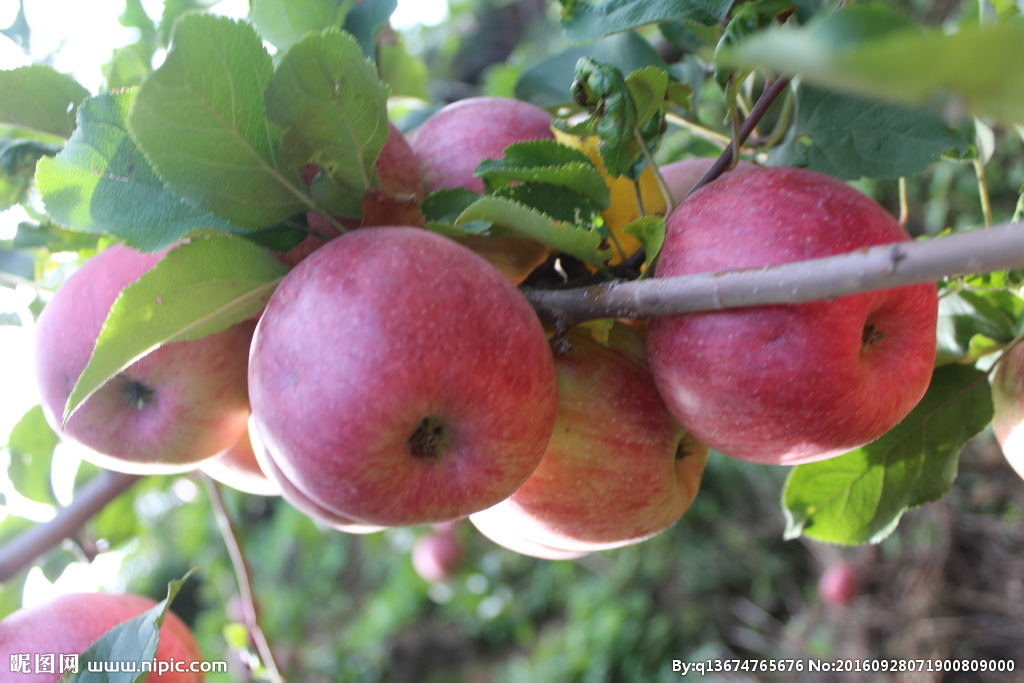apple: (246, 225, 555, 527)
obscured(1)_apple: (650, 165, 939, 462), (33, 236, 251, 465)
obscured(2)_apple: (464, 321, 706, 559)
obscured(3)_apple: (385, 91, 580, 272)
